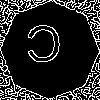C: (25, 25, 62, 72)
